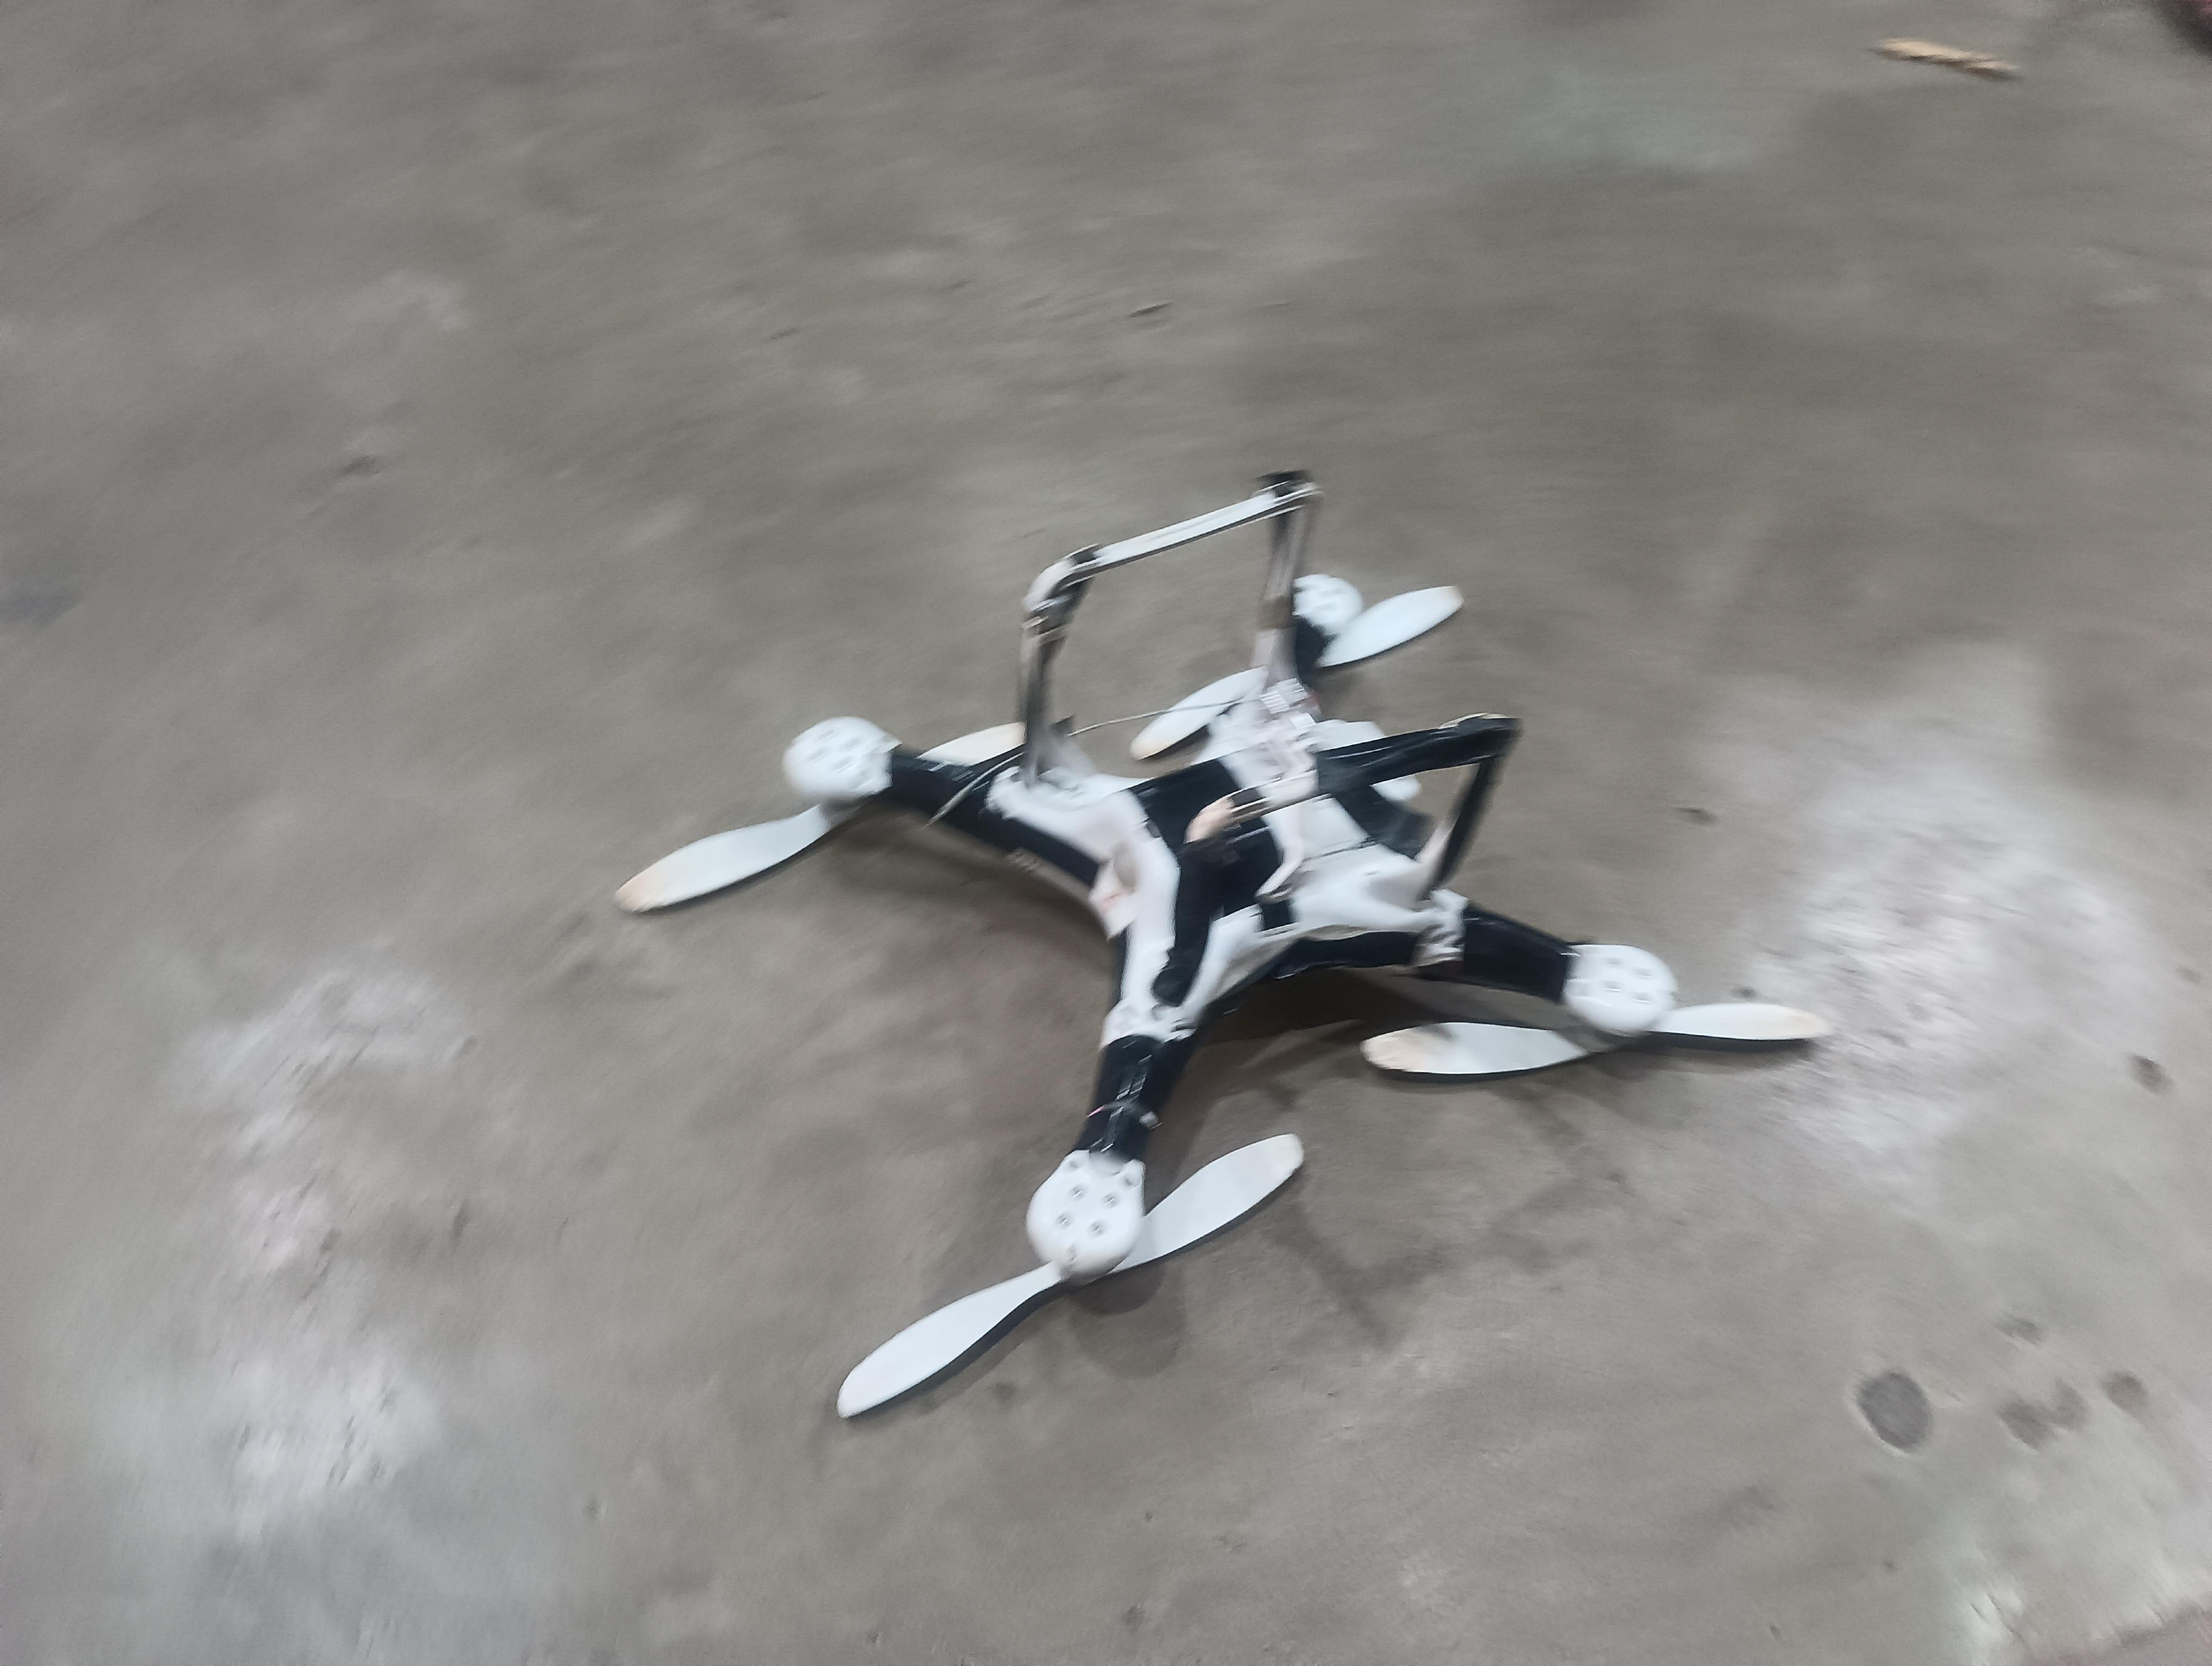drone: (549, 429, 1841, 1466)
